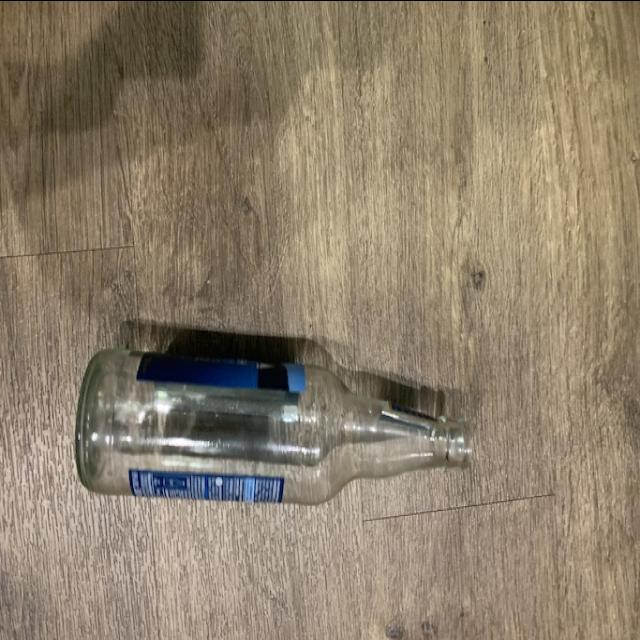litter: (67, 341, 477, 510)
